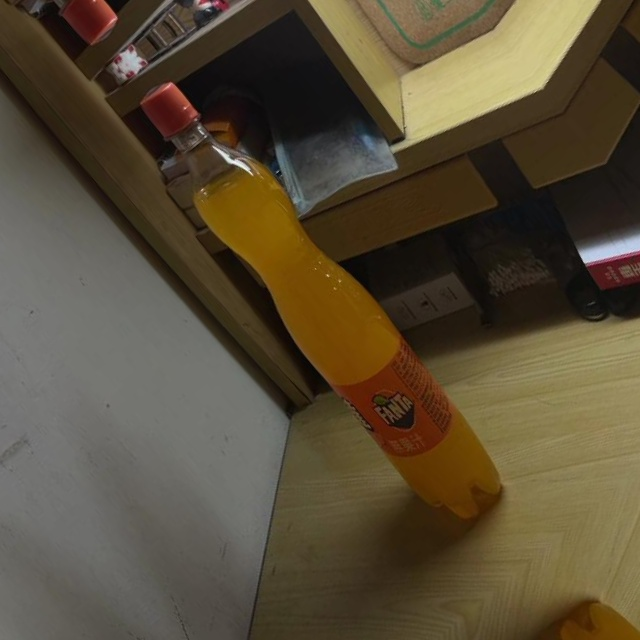Fanta: (109, 67, 525, 537)
